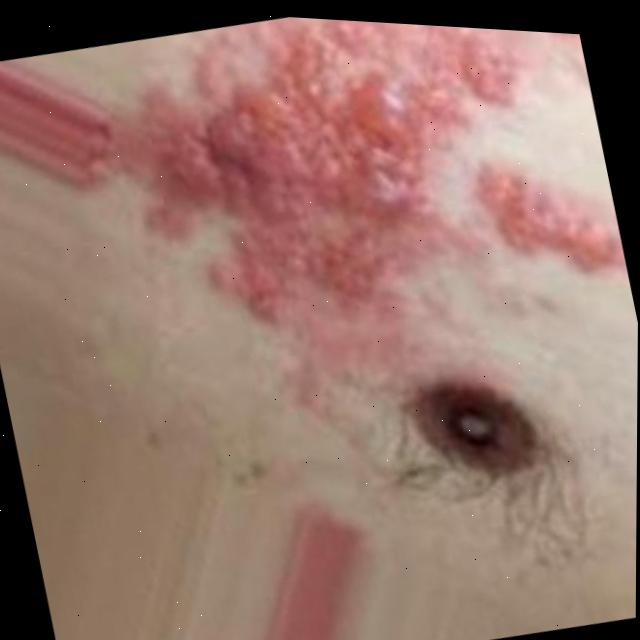Shingles: (114, 7, 636, 403)
